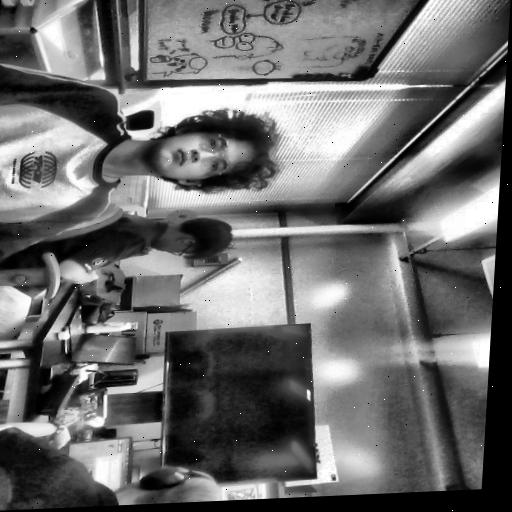Daifuku: (147, 104, 286, 196)
Not Daifuku: (109, 464, 222, 506), (142, 211, 237, 259)
